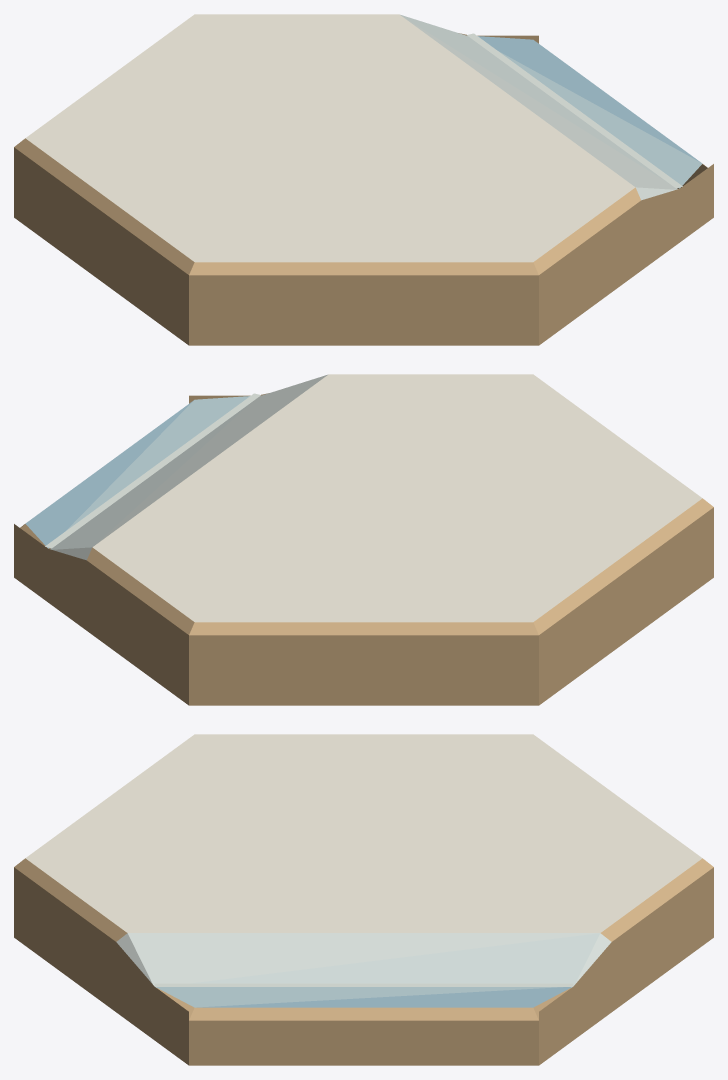
The model's file is coast_side_snow_2.fbx.
The picture shows the model from 3 angles, top to bottom: view 1: azimuth 30°, elevation 25°; view 2: azimuth 150°, elevation 25°; view 3: azimuth 270°, elevation 25°; orthographic projection.
Parts seen in each view (by area): view 1: coast_side_snow_2; view 2: coast_side_snow_2; view 3: coast_side_snow_2.
Part boxes in pixels (bbox=[...]): coast_side_snow_2: bbox=[14, 14, 713, 345]; coast_side_snow_2: bbox=[14, 374, 713, 705]; coast_side_snow_2: bbox=[14, 734, 713, 1065].
Size of the model in its own units: 1.73 by 0.25 by 2.
